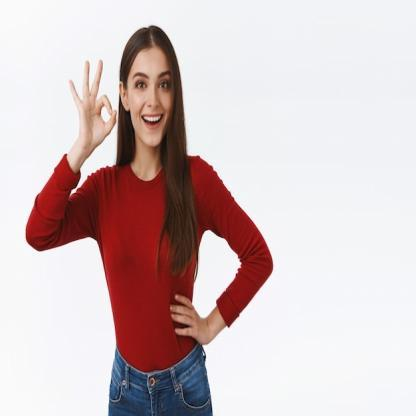ok: (66, 54, 118, 154)
